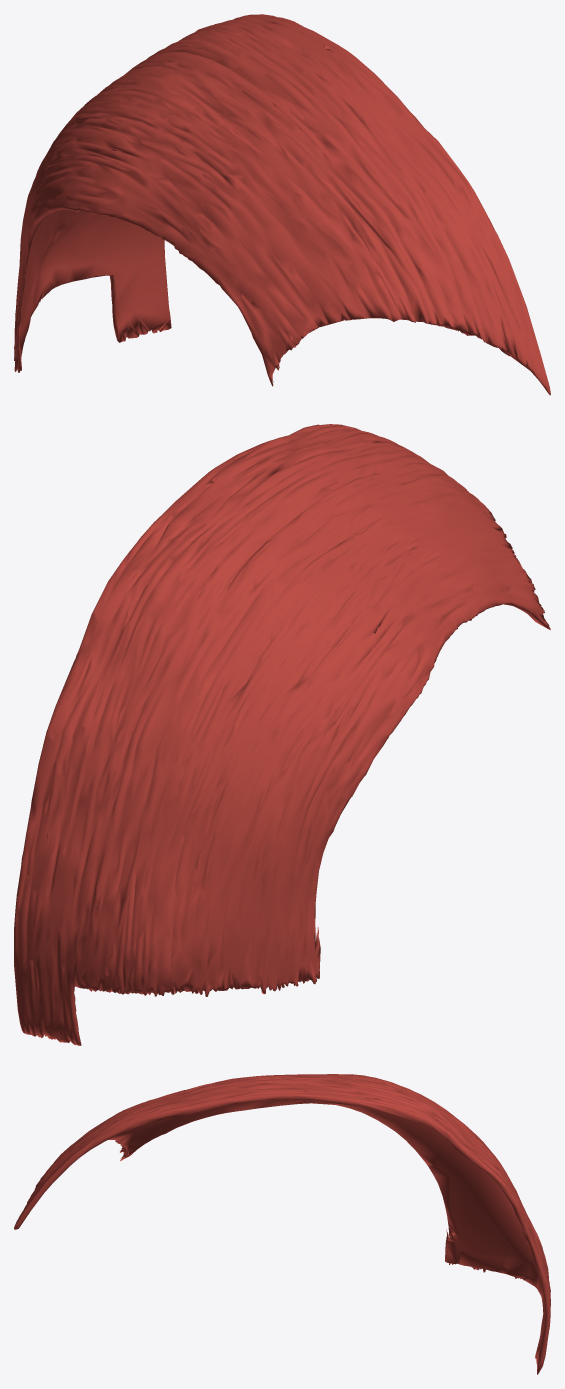
Rendered from musculos-epicranial-aponeurosis-r.glb.
3 renders of one model, top to bottom at view 1: azimuth 30°, elevation 25°; view 2: azimuth 150°, elevation 25°; view 3: azimuth 270°, elevation 25°, orthographic. The views are drawn at different scales.
Parts seen in each view (by area): view 1: Epicranial aponeurosis.r; view 2: Epicranial aponeurosis.r; view 3: Epicranial aponeurosis.r.
Part boxes in pixels (x1,y1,x2,y2): Epicranial aponeurosis.r: (14,14,550,395); Epicranial aponeurosis.r: (14,424,550,1045); Epicranial aponeurosis.r: (14,1074,550,1374).
Bounding box in the file's own units: 0.0669 × 0.1091 × 0.1885.
